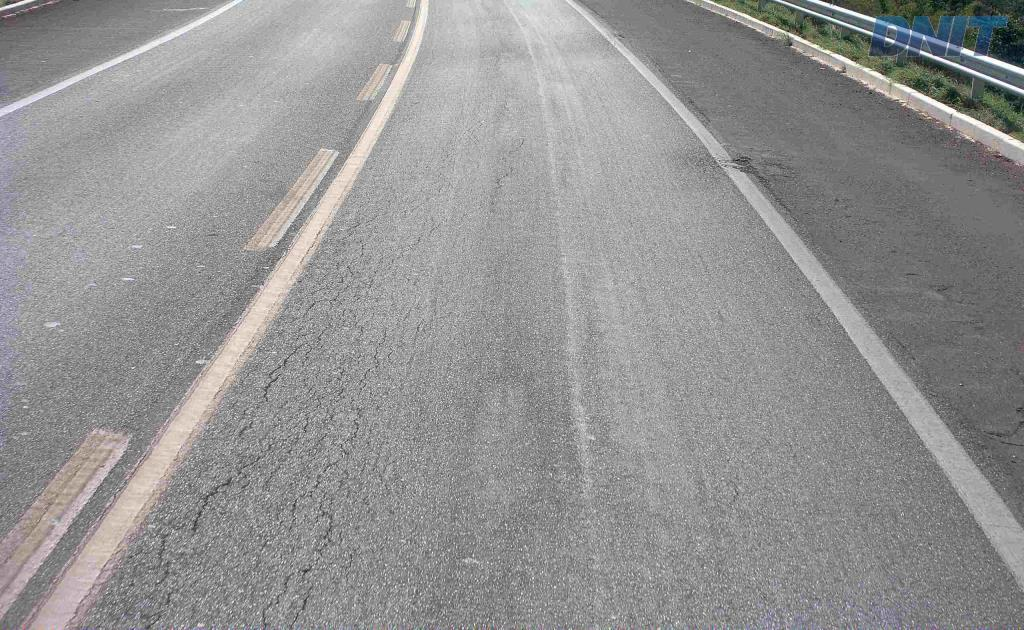crack: (188, 476, 234, 531)
